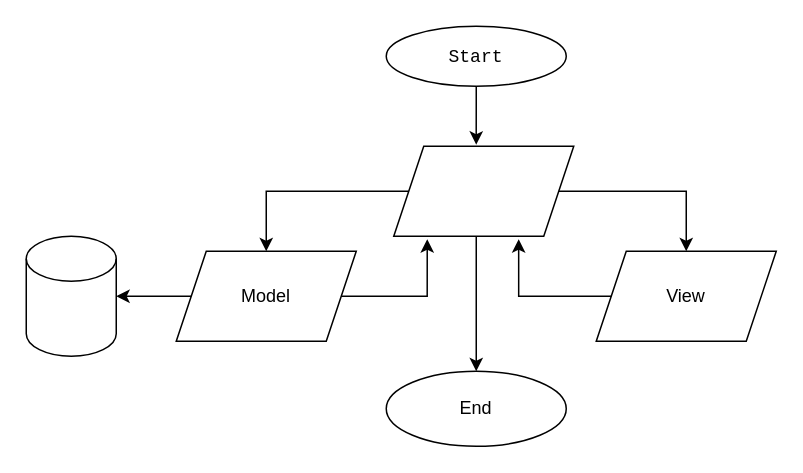
Image size: 803x473. Some labels were removed from this diagram. Each missing label, with the box of its shape:
Controller: (392, 145, 574, 236)
DB: (25, 235, 116, 356)
